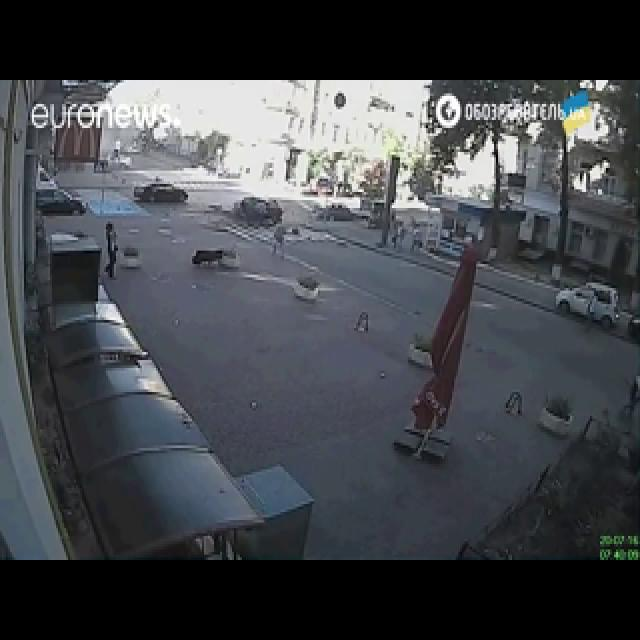explosion: (59, 26, 505, 488)
